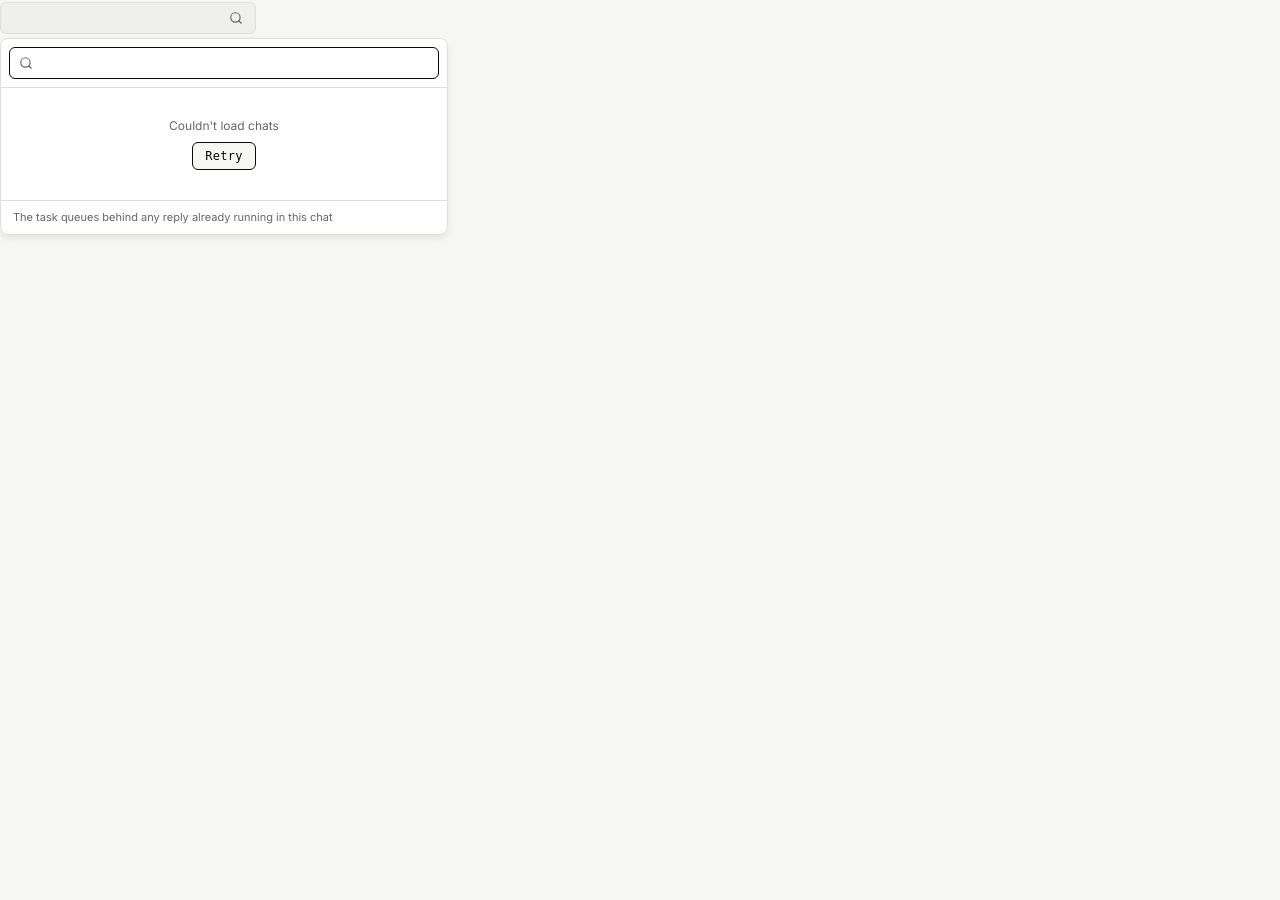
Scenario: PipeChatDestinationPicker › offers retry when the local chat index cannot be read
The width and height of the screenshot is (1280, 900).
expect the text "Couldn't load chats" is shown: met, box [169,118,279,133]
Click the button "Retry".
click(224, 156)  # box [192,142,256,170]
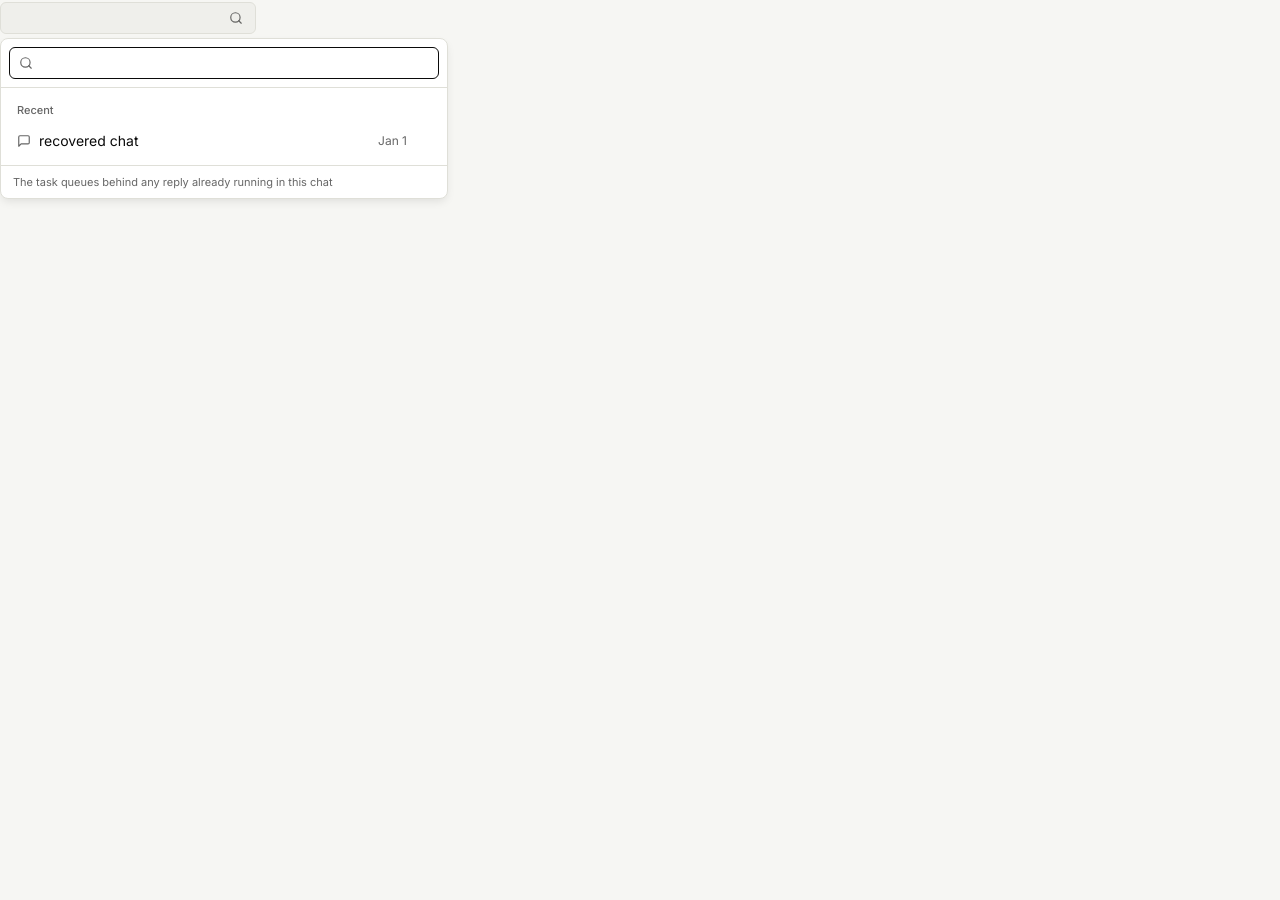
expect the text "recovered chat" is shown: met, box [39,132,138,148]
